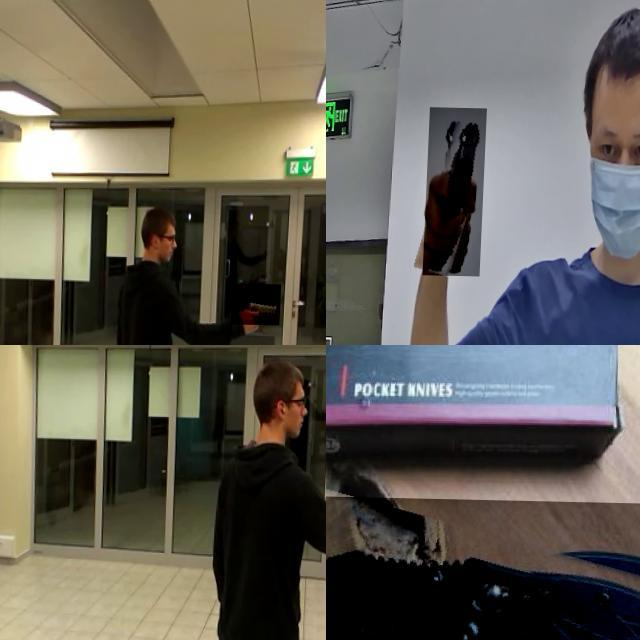-: (326, 493, 640, 640)
gun-knife-thesis - v11 Yolov5 augmented: (428, 106, 490, 275), (234, 282, 284, 324)
